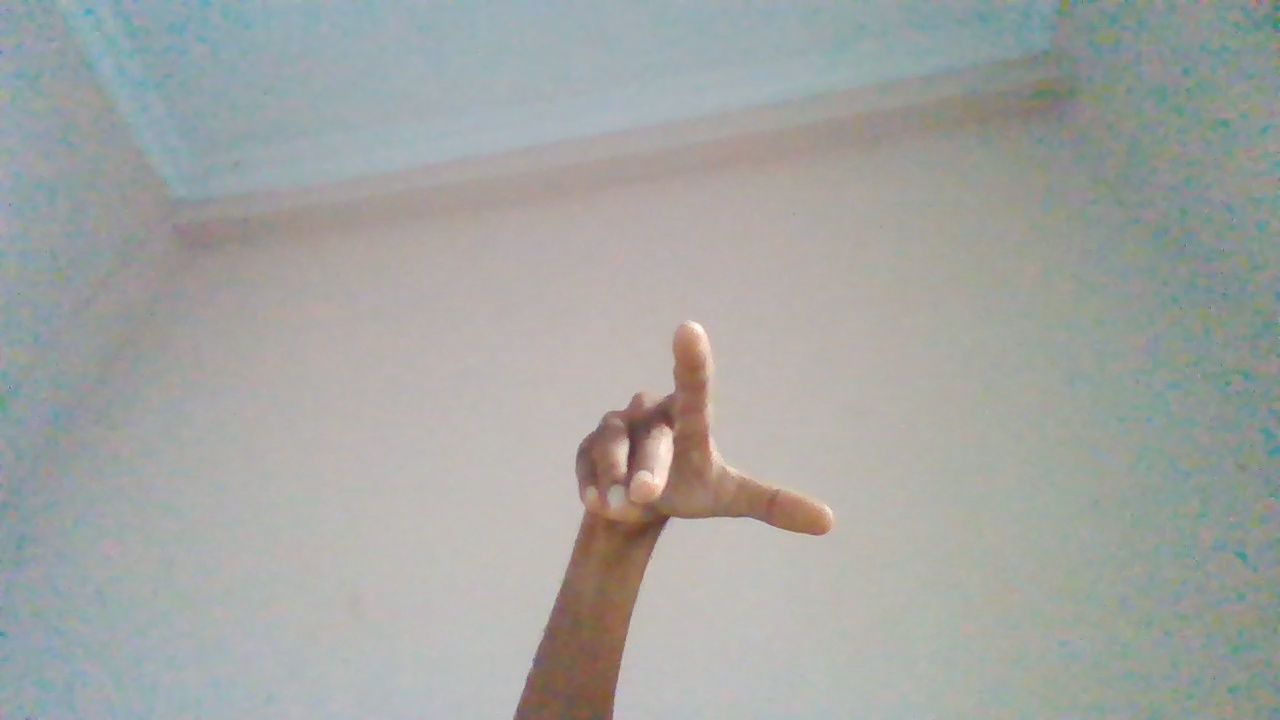ke: (570, 312, 838, 716)
